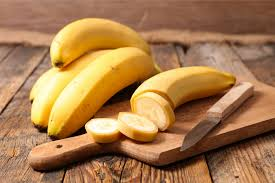banana: (25, 9, 158, 136), (86, 70, 254, 143)
